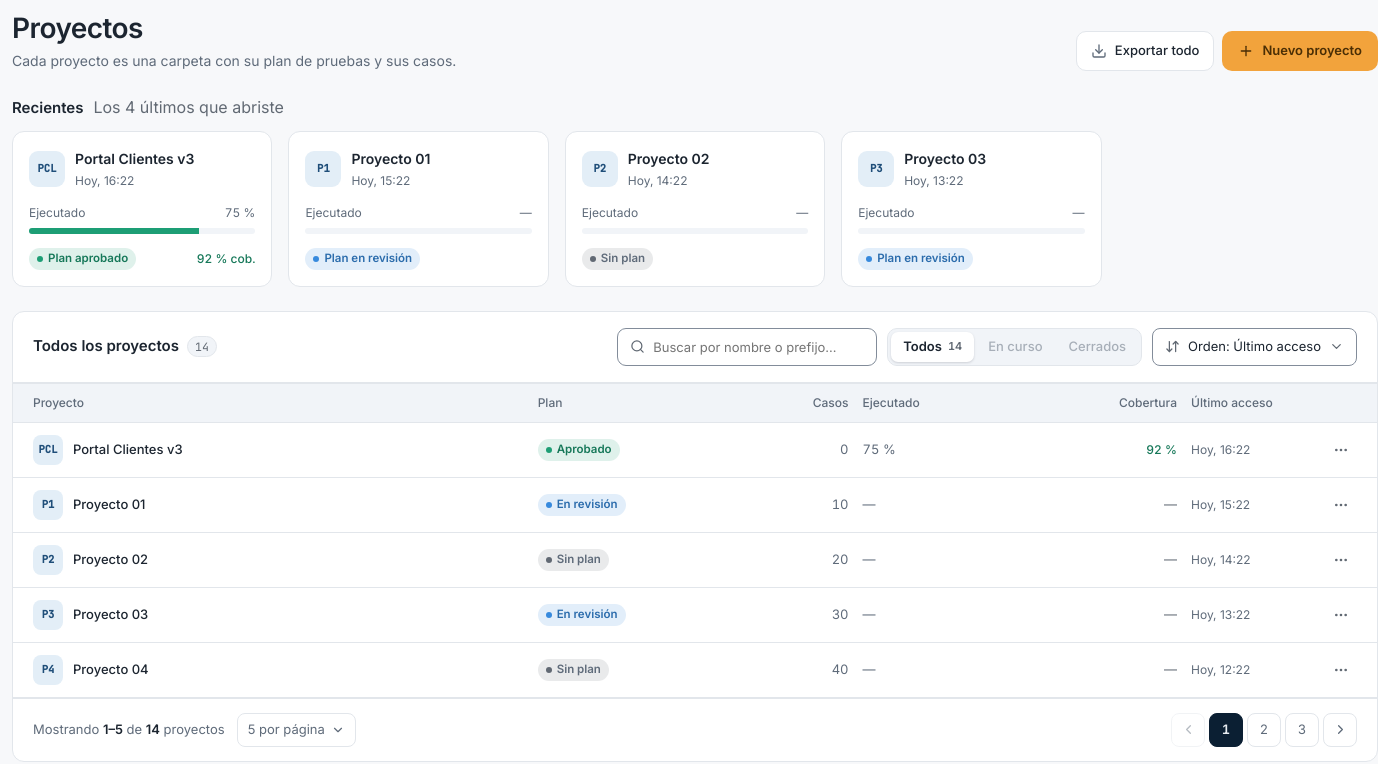
Scenario: Proyectos (SPEC §8) › a project not opened on this device reads «—», not «Nunca» (FIX-49)
This screenshot has width=1378, height=764.
Type "Proyecto 07" into the search field at point(759, 347), box [653,329,864,365]
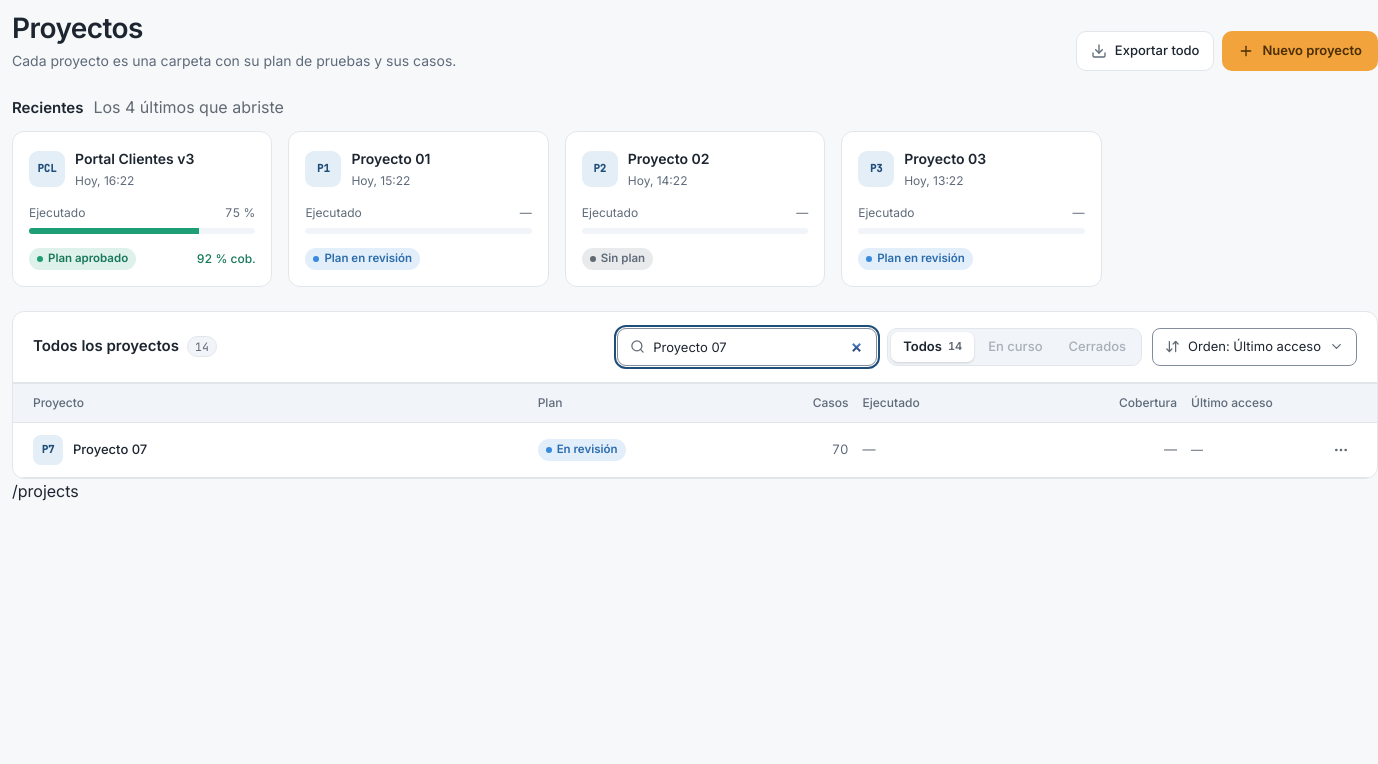
Expected: the 4th text "—" is shown, [862,440,876,459]
Result: the number of rows is 2 at [13,383,1377,423]; [13,423,1377,478]
